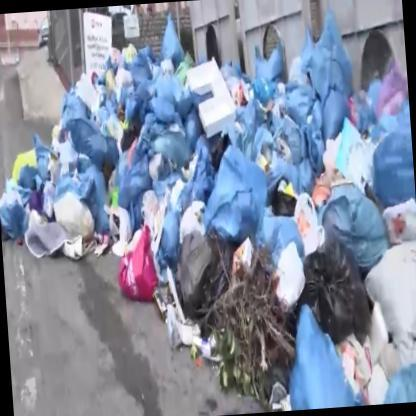Garbage: (0, 38, 197, 306), (232, 41, 414, 235), (162, 200, 224, 375), (0, 129, 61, 262), (287, 307, 364, 410), (206, 143, 276, 250), (300, 254, 376, 348), (364, 73, 415, 208), (372, 211, 415, 351), (209, 144, 270, 240), (332, 171, 392, 257), (306, 20, 352, 118), (119, 230, 162, 322), (133, 20, 183, 88), (53, 122, 118, 174), (47, 186, 96, 245), (148, 64, 180, 136), (254, 41, 285, 99), (232, 82, 260, 120)
